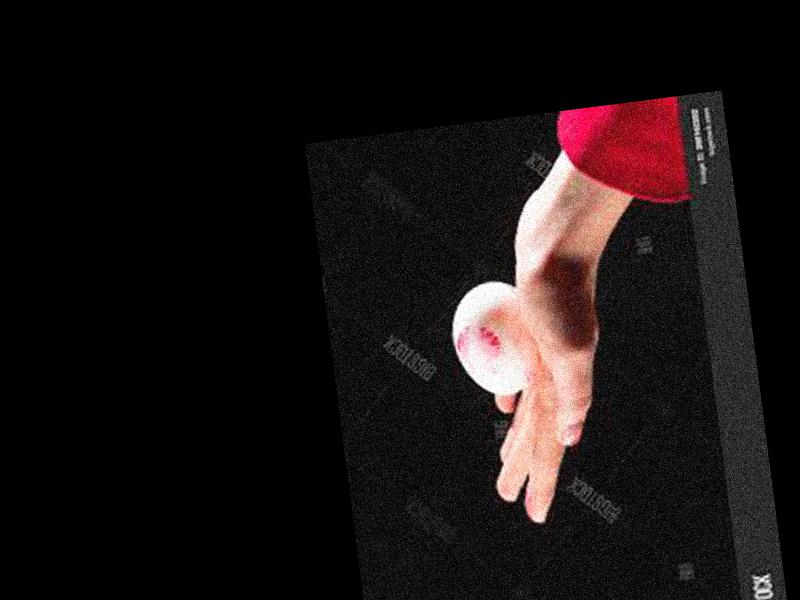Eggs: (445, 276, 535, 397)
